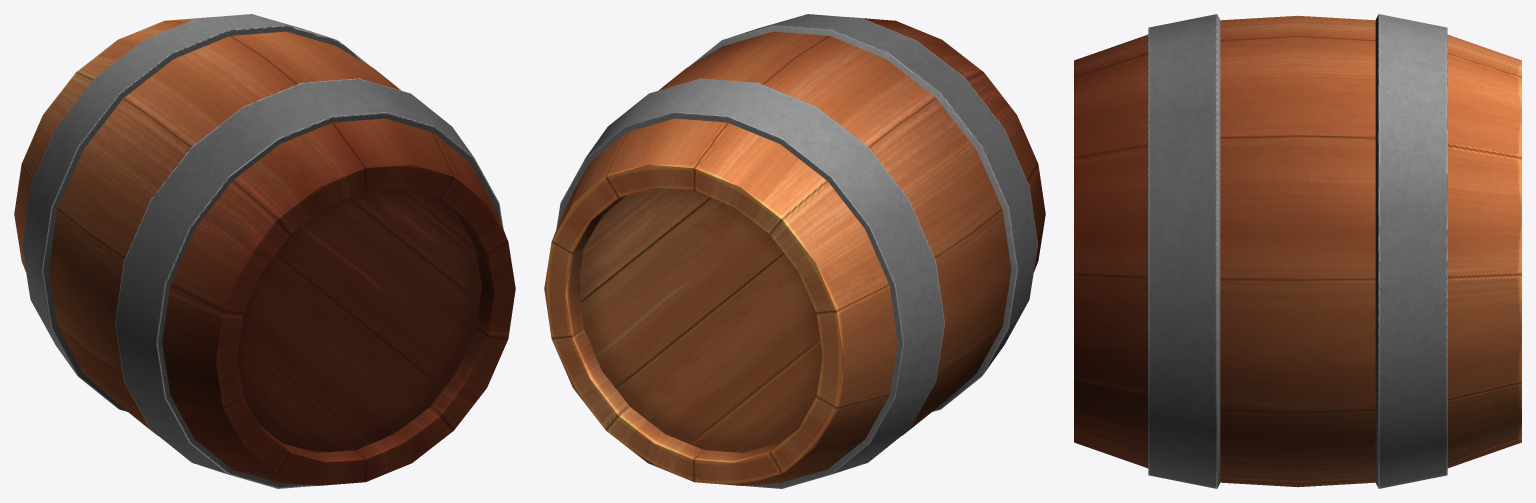
The model's file is WoodBarrel.FBX.
3 views of the same model, side by side, from view 1: azimuth 30°, elevation 25°; view 2: azimuth 150°, elevation 25°; view 3: azimuth 270°, elevation 25° (orthographic). The views are drawn at different scales.
Parts seen in each view (by area): view 1: WoodBarrel; view 2: WoodBarrel; view 3: WoodBarrel.
Part boxes in pixels (x1=…): WoodBarrel: x1=14, y1=14, x2=515, y2=488; WoodBarrel: x1=544, y1=14, x2=1045, y2=488; WoodBarrel: x1=1074, y1=14, x2=1521, y2=488.
Bounding box in the file's own units: 32.93 × 32.93 × 30.83.
1 material, 1 textured.
